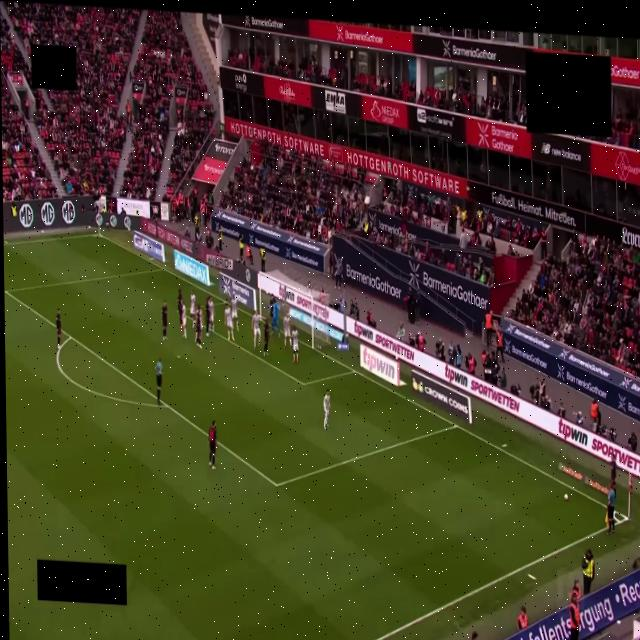ball: (564, 494, 568, 501)
player: (224, 303, 234, 341), (209, 420, 216, 468), (252, 311, 260, 349), (272, 299, 280, 336), (231, 294, 239, 331), (195, 307, 202, 348), (283, 314, 291, 347), (274, 300, 281, 337), (324, 389, 330, 429), (161, 302, 167, 340), (181, 302, 187, 338), (208, 297, 214, 333), (292, 328, 298, 362), (56, 308, 61, 348), (205, 297, 210, 336), (610, 452, 616, 483), (264, 319, 269, 356), (177, 289, 182, 322), (269, 296, 274, 325), (196, 305, 203, 324), (190, 291, 195, 316), (269, 296, 274, 317), (177, 289, 183, 304)
referee: (607, 481, 616, 534), (155, 359, 162, 404)
